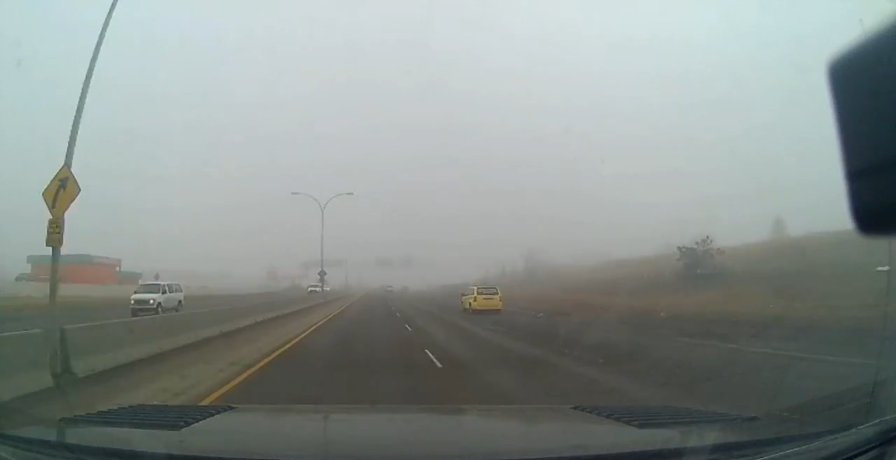car: (139, 288, 194, 324), (460, 285, 503, 316), (307, 283, 323, 297), (322, 284, 333, 294), (384, 284, 395, 294)
